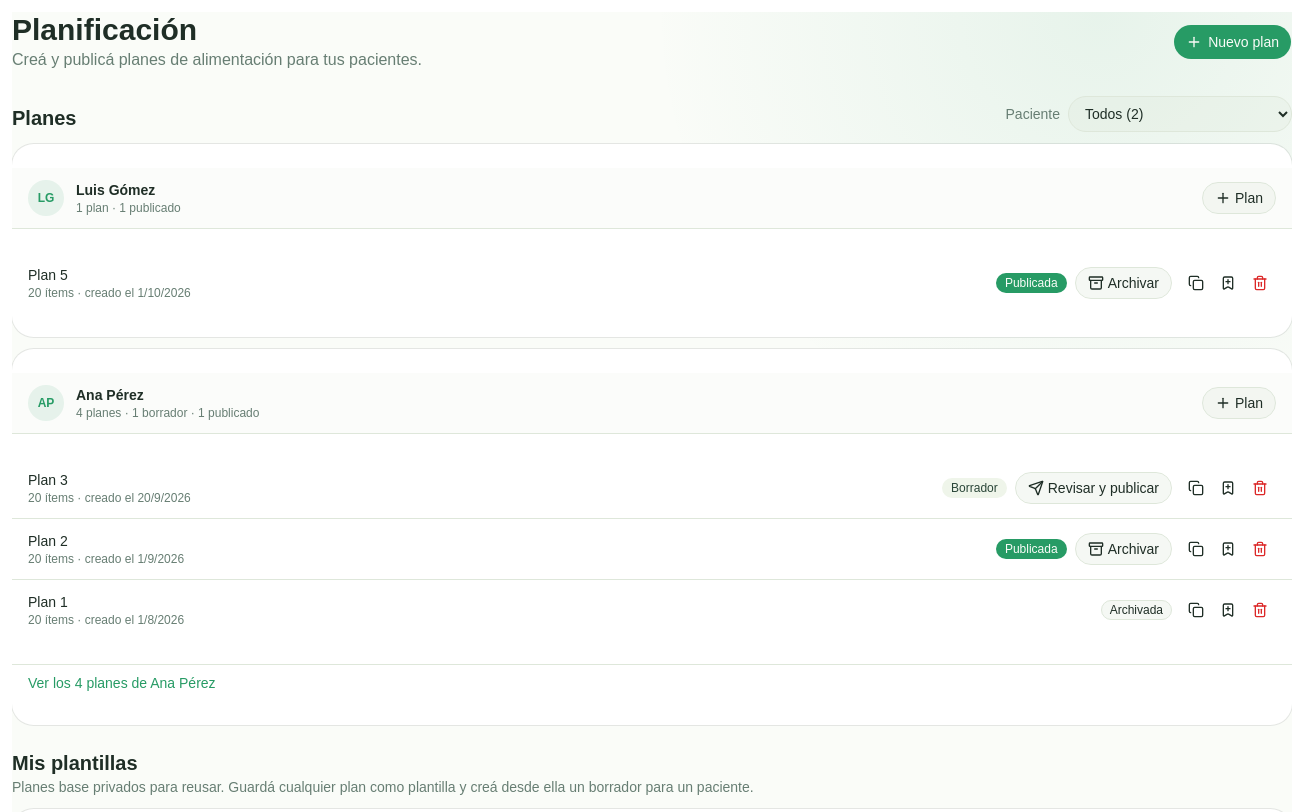
Test case: filtra por paciente
Expected: the element named "Planes de Ana Pérez" is shown, [12,349,1292,725]
Select "Luis Gómez (1)" in the dropdown labelled "Paciente": (1180, 114) [1068,96,1292,132]
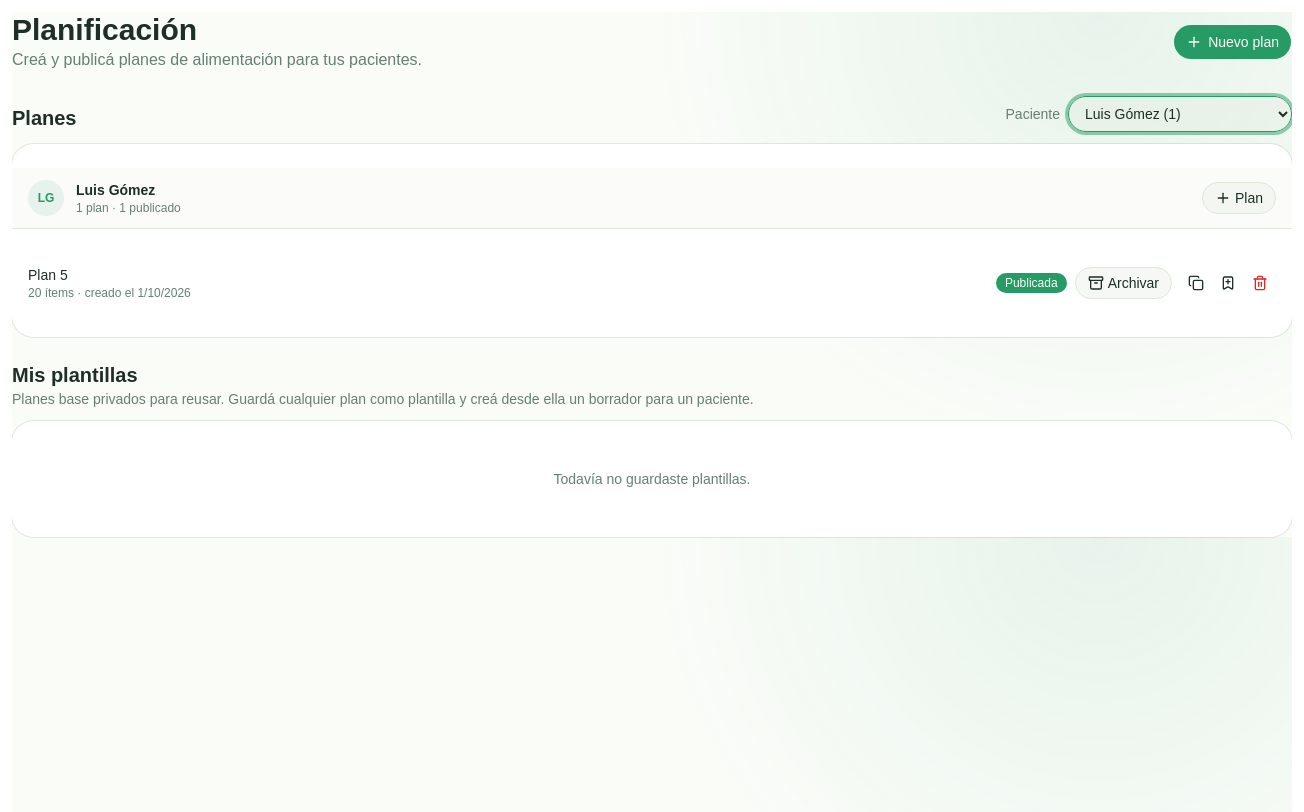
Expected: the element named "Planes de Luis Gómez" is shown, [12,144,1292,337]
Now the button "planes de Ana Pérez" is gone
Select "Todos (2)" in the dropdown labelled "Paciente": (1180, 114) [1068,96,1292,132]
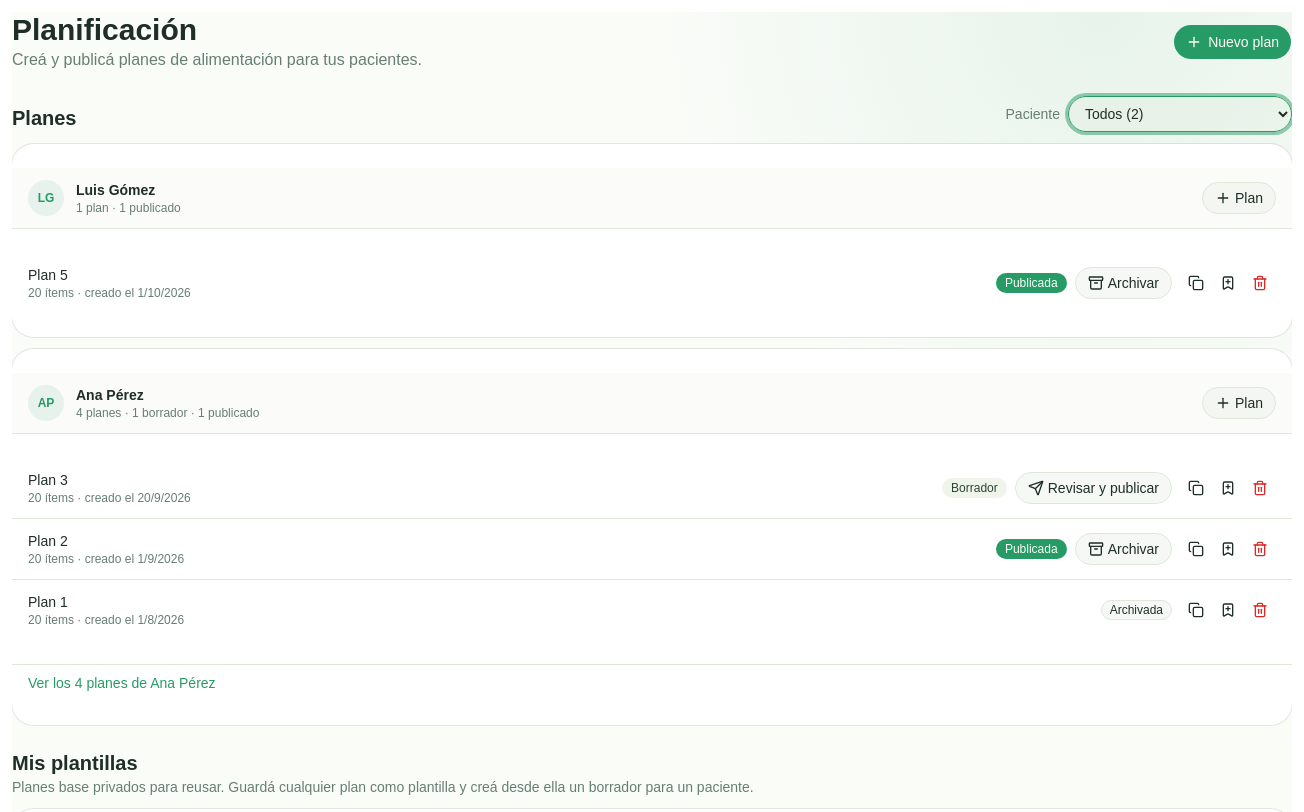
Now the element named "Planes de Ana Pérez" is shown, box [12,349,1292,725]
